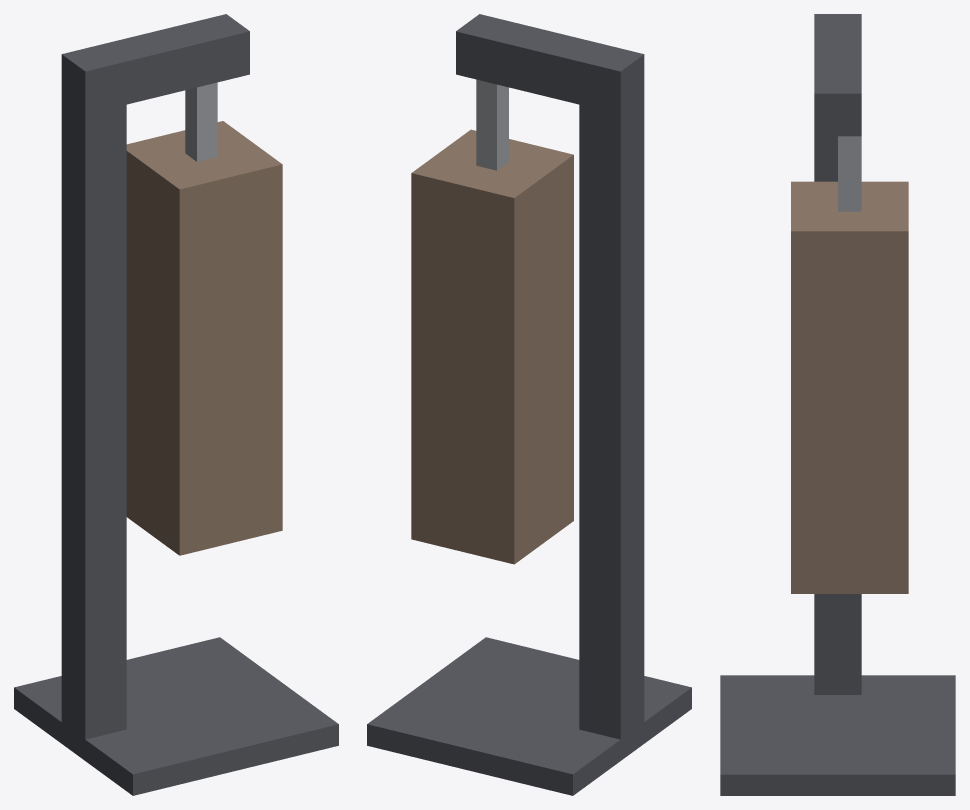
File: sac_frappe.glb
3 renders of one model, left to right at view 1: azimuth 30°, elevation 25°; view 2: azimuth 150°, elevation 25°; view 3: azimuth 270°, elevation 25°, orthographic.
Visible parts, largest first — view 1: main; view 2: main; view 3: main.
Boxes of the visible parts, left/top/right/bottom form: main: left=14, top=14, right=338, bottom=795; main: left=367, top=14, right=691, bottom=795; main: left=720, top=14, right=955, bottom=795.
Bounding box in the file's own units: 0.625 × 2 × 0.625.
